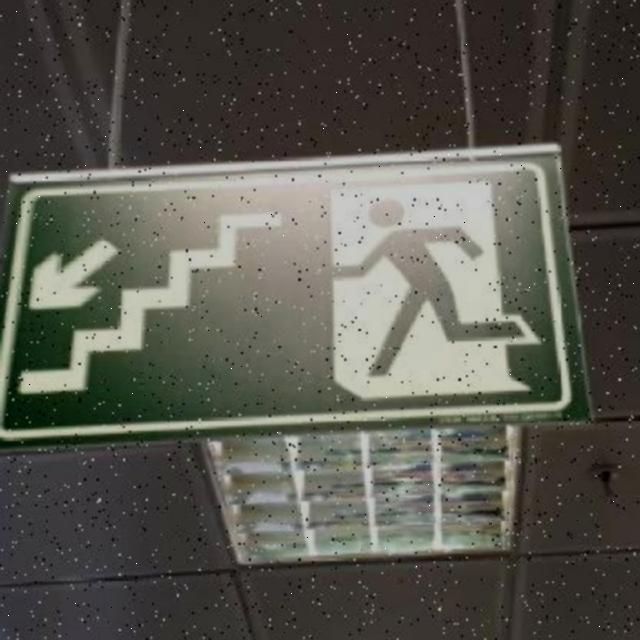emergency_exit: (0, 142, 594, 448)
